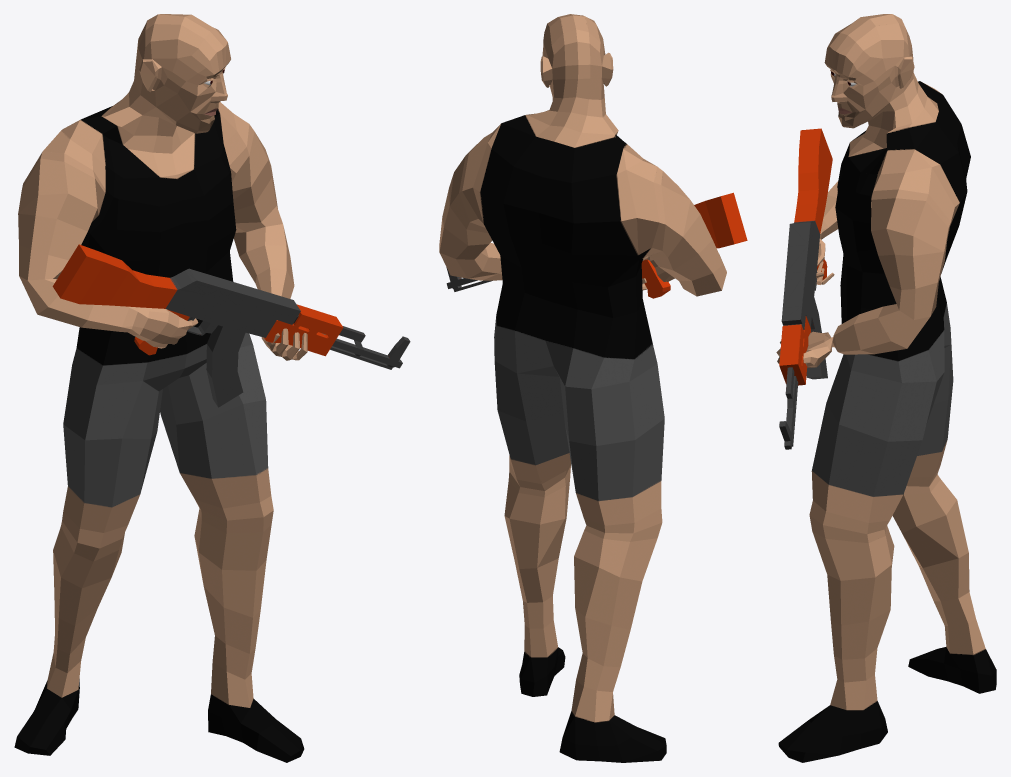
Rendered from PlayerIdle(165).obj.
The picture shows the model from 3 angles, left to right: view 1: azimuth 30°, elevation 25°; view 2: azimuth 150°, elevation 25°; view 3: azimuth 270°, elevation 25°; orthographic projection. The views are drawn at different scales.
Visible parts, largest first — view 1: Plane002, Object001; view 2: Plane002, Object001; view 3: Plane002, Object001.
Boxes of the visible parts, x1,y1,x2,y2 form: Plane002: (14,14,325,762); Object001: (52,244,410,407); Plane002: (439,14,726,762); Object001: (446,192,747,298); Plane002: (776,14,996,762); Object001: (779,128,832,449).
Size of the model in its own units: 872 by 1795 by 508.
